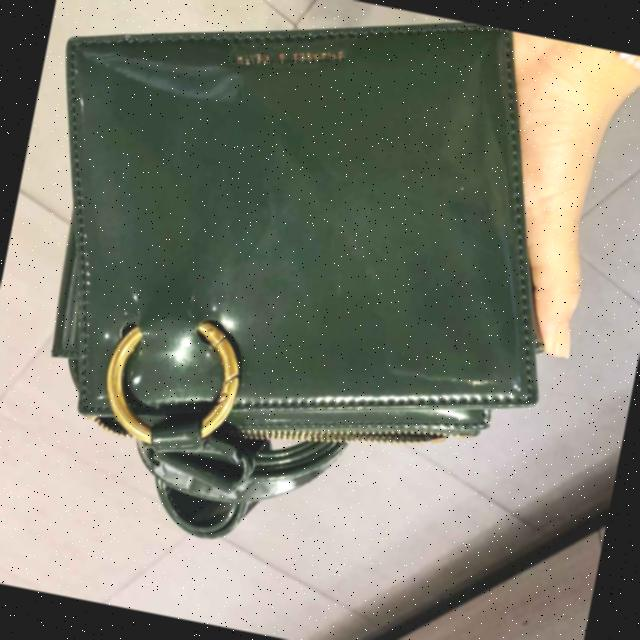Handbag: (0, 0, 628, 577)
